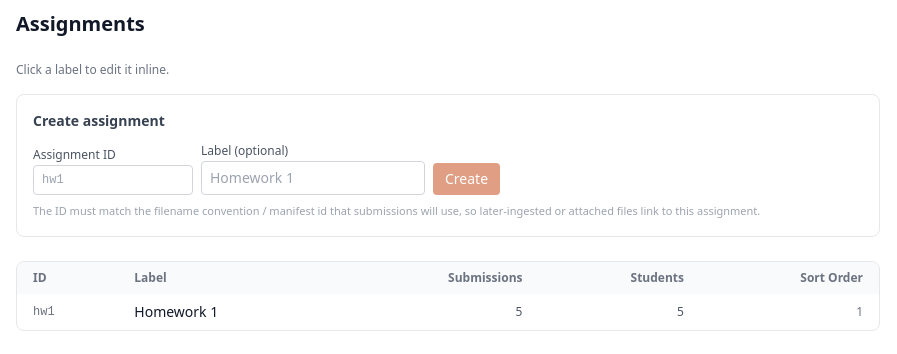
AssignmentsView › save sends PATCH and renders the new label after refetch
Click the button with test id "label-20000000-0000-0000-0000-000000000001".
click(176, 312)  # box left=134, top=302, right=218, bottom=322
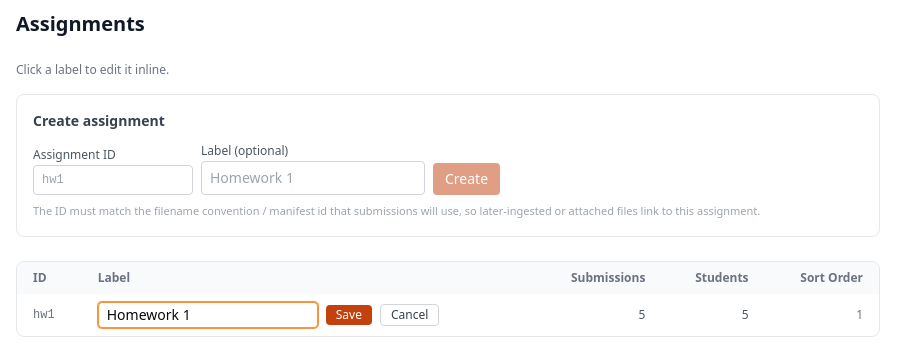
Replace the text in the field with test id "label-input-20000000-0000-0000-0000-000000000001" with "Homework 1 — Renamed" at (208, 314), box left=98, top=302, right=318, bottom=328
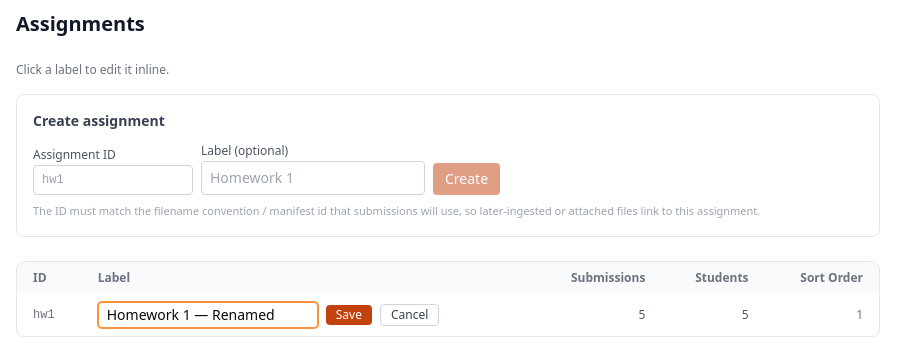
Click the button with test id "label-save-20000000-0000-0000-0000-000000000001".
click(349, 314)  # box left=326, top=304, right=372, bottom=324
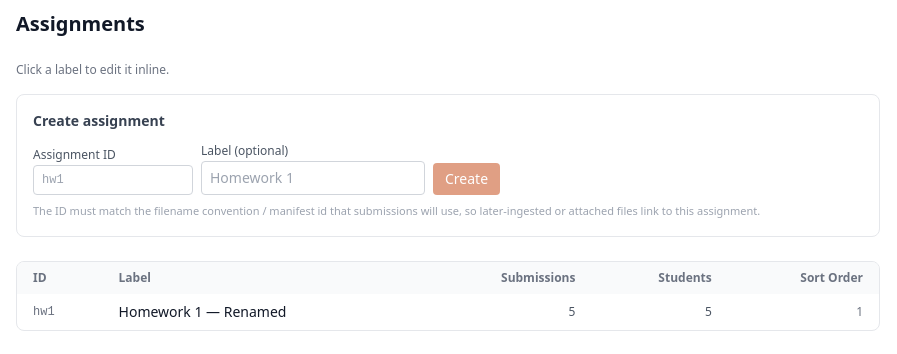
Check: the button "Homework 1 — Renamed" is shown, box left=118, top=302, right=286, bottom=322
